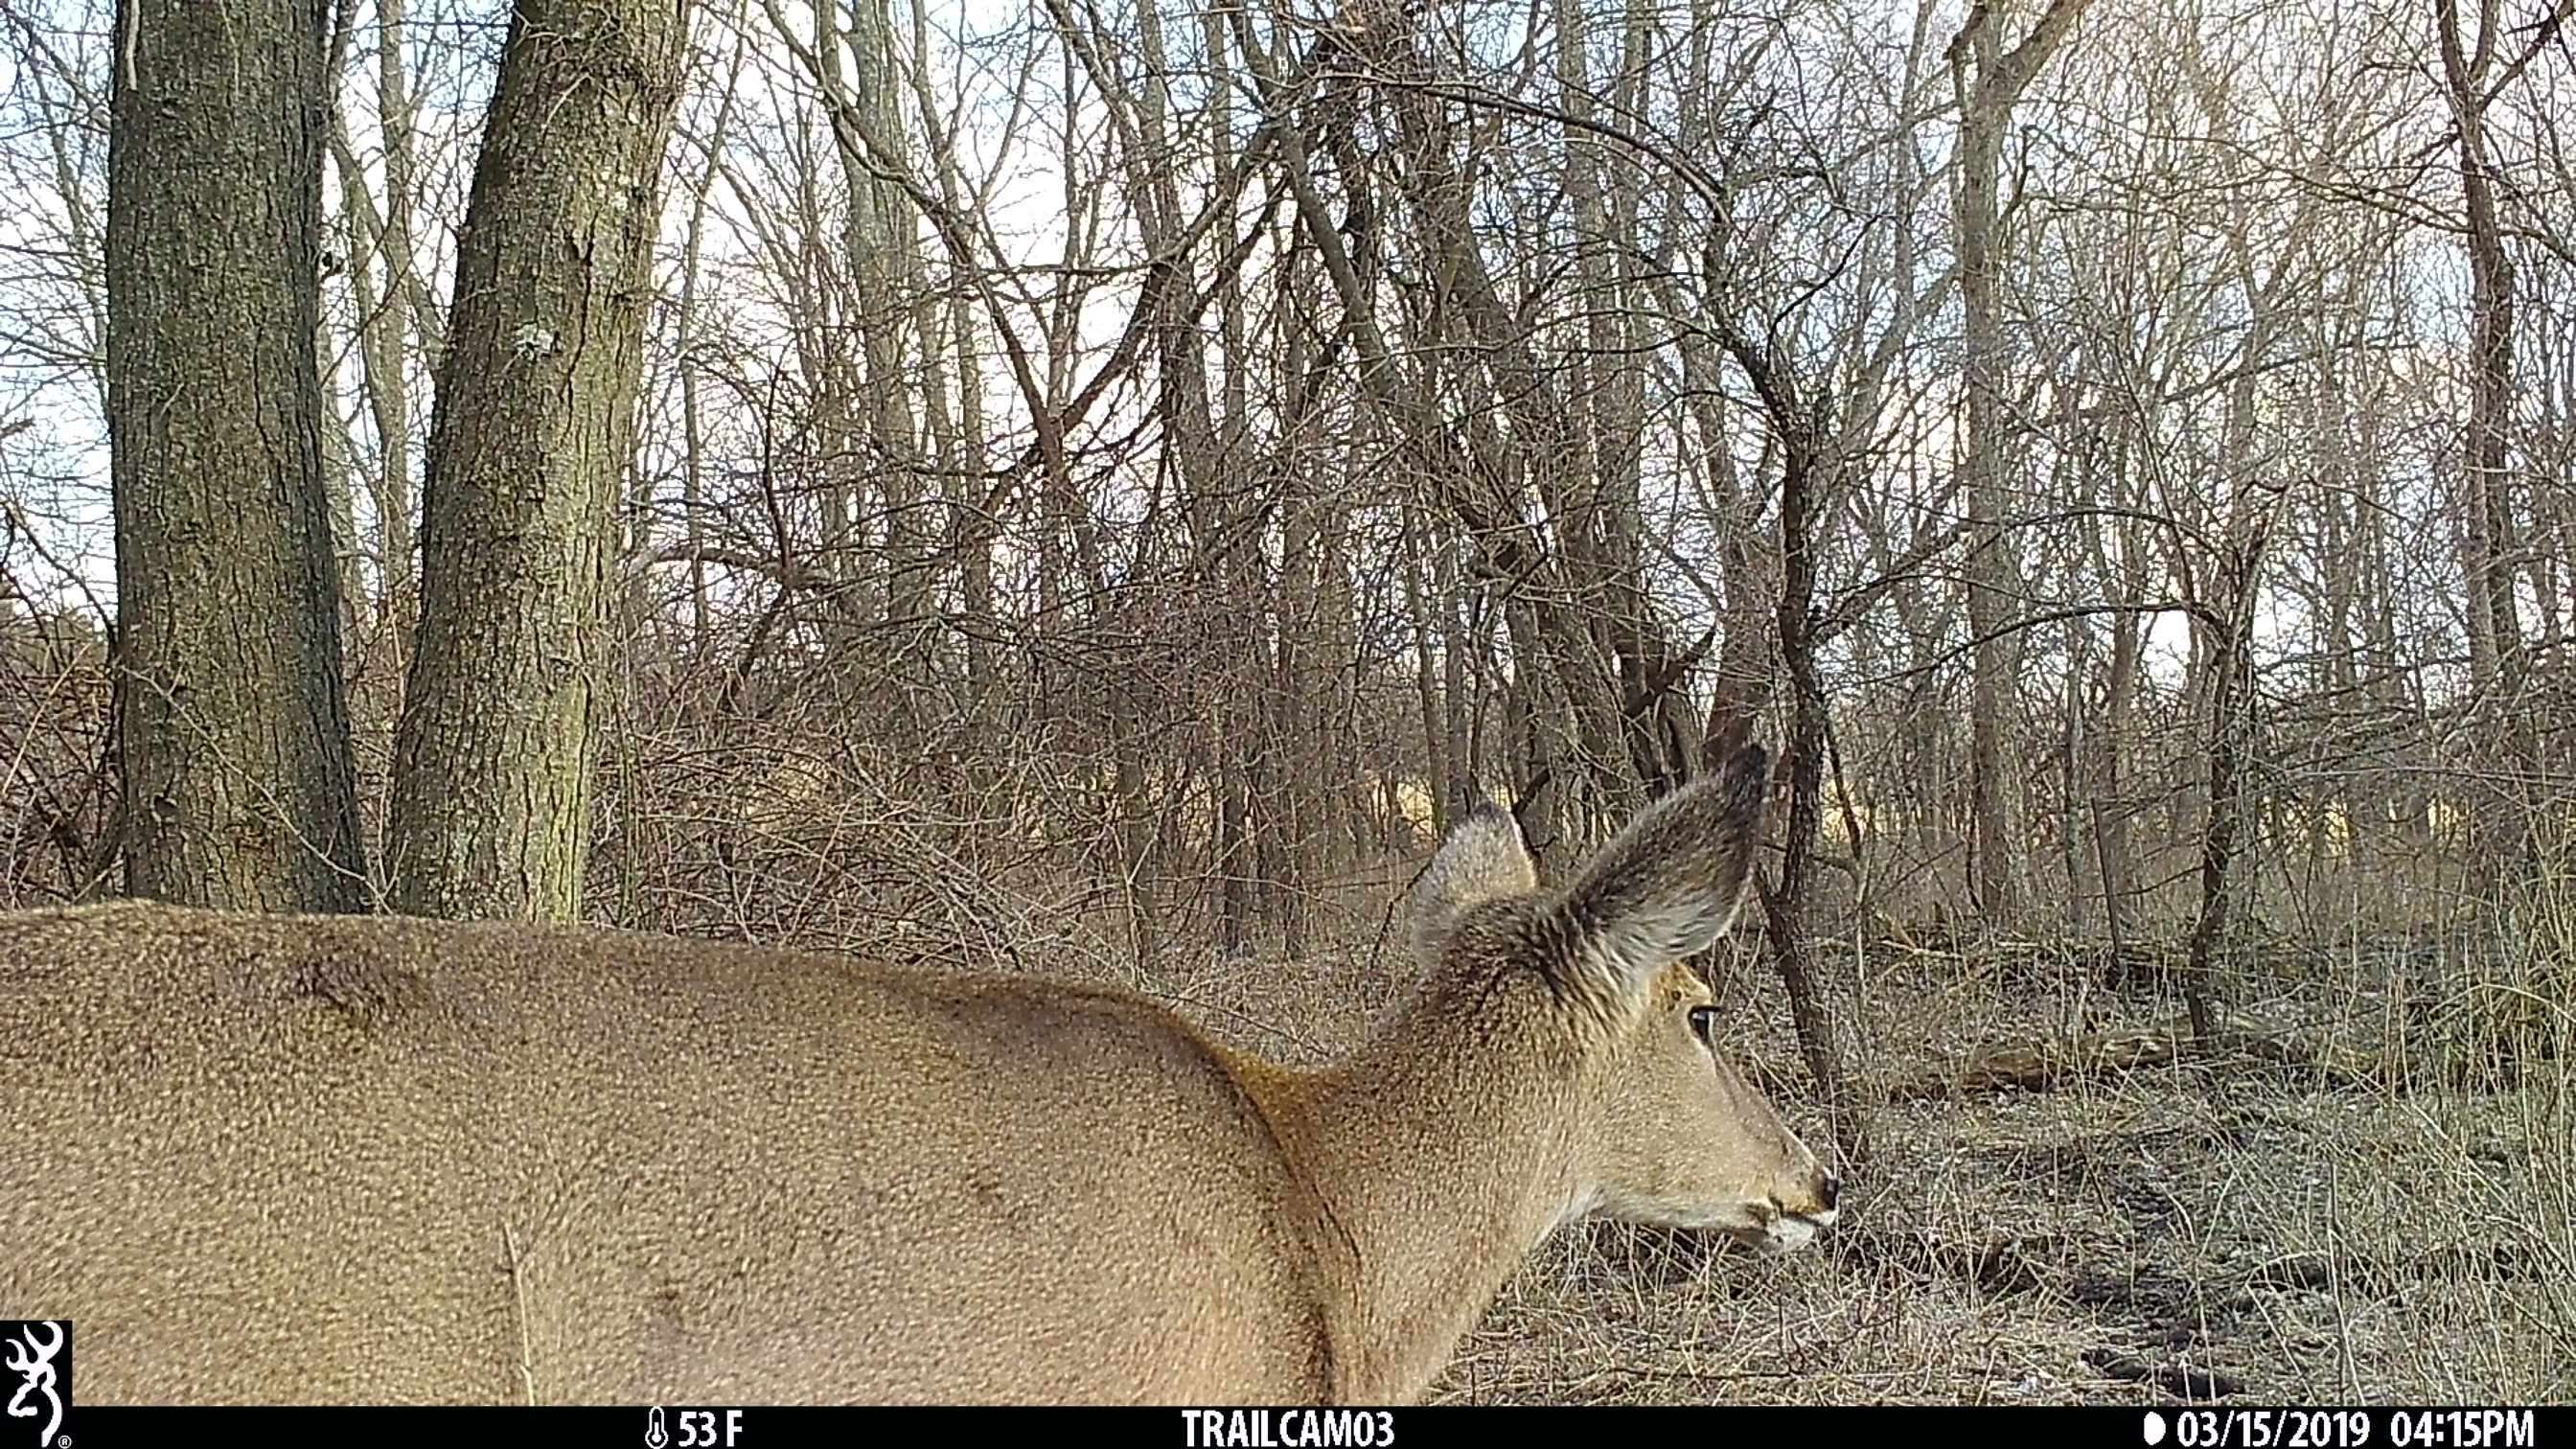Deer: (4, 741, 1847, 1414)
